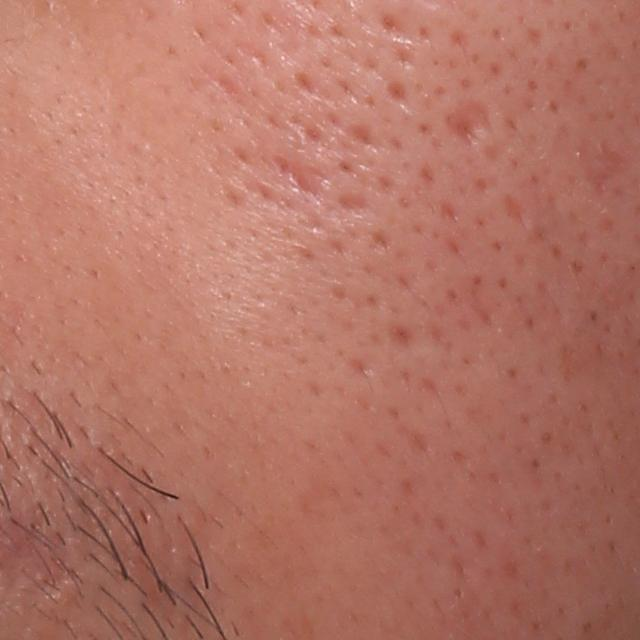atrophic_scar: (570, 136, 631, 205), (255, 151, 330, 206), (444, 96, 492, 149), (337, 190, 377, 219), (502, 189, 530, 227)
